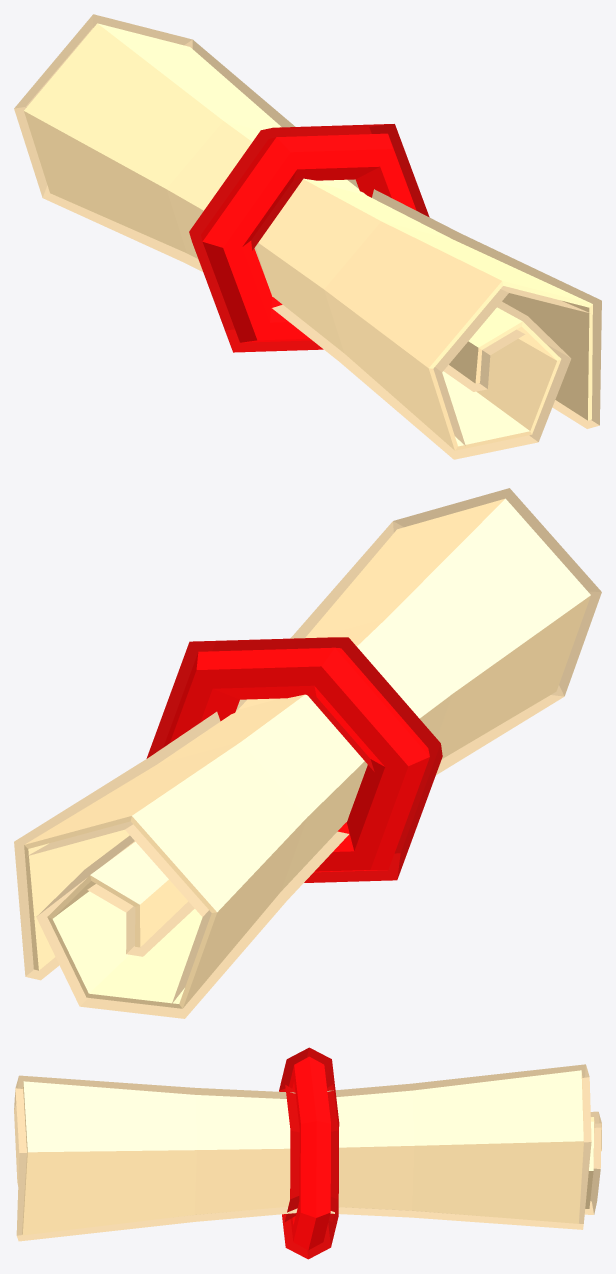
The model's file is scroll4.glb.
The picture shows the model from 3 angles, top to bottom: view 1: azimuth 30°, elevation 25°; view 2: azimuth 150°, elevation 25°; view 3: azimuth 270°, elevation 25°; orthographic projection. The views are drawn at different scales.
Visible parts, largest first — view 1: Scroll.003, PaperToon.004; view 2: Scroll.003, PaperToon.004; view 3: Scroll.003, PaperToon.004.
Part boxes in pixels (x1,y1,x2,y2): Scroll.003: [24, 23, 592, 450]; PaperToon.004: [14, 14, 601, 459]; Scroll.003: [24, 498, 590, 1008]; PaperToon.004: [14, 488, 601, 1018]; Scroll.003: [22, 1056, 594, 1250]; PaperToon.004: [14, 1047, 601, 1259].
Size of the model in its own units: 0.1229 by 0.1108 by 0.3245.
Materials: 2 (2 with a texture image).
